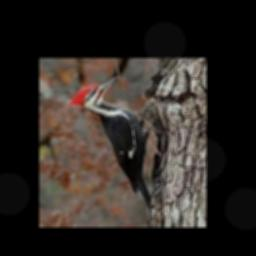Woodpecker: (67, 76, 152, 216)
